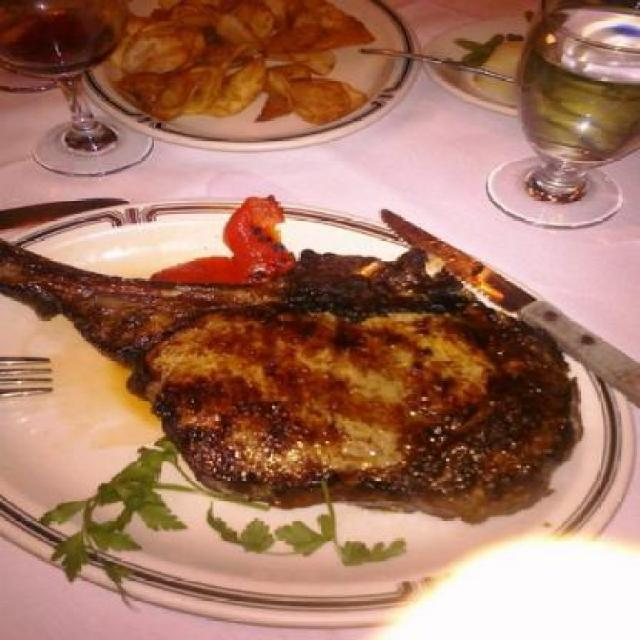Steak: (26, 216, 568, 502)
